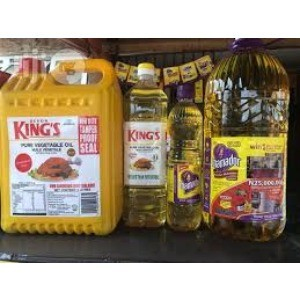vegetable oil_brain food: (3, 80, 112, 238), (216, 83, 267, 228), (118, 94, 164, 223), (168, 115, 197, 227)
